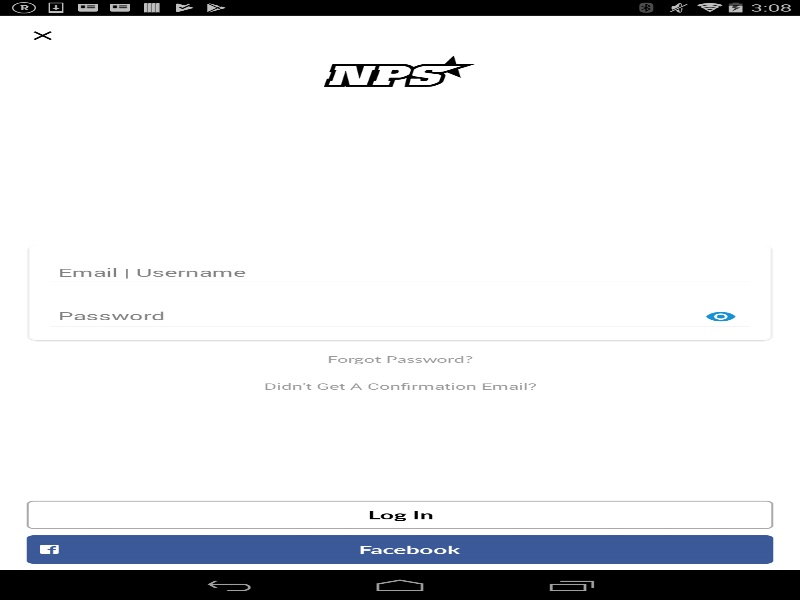Button: (686, 300, 755, 332)
Input: (44, 301, 755, 331), (44, 259, 755, 287)
